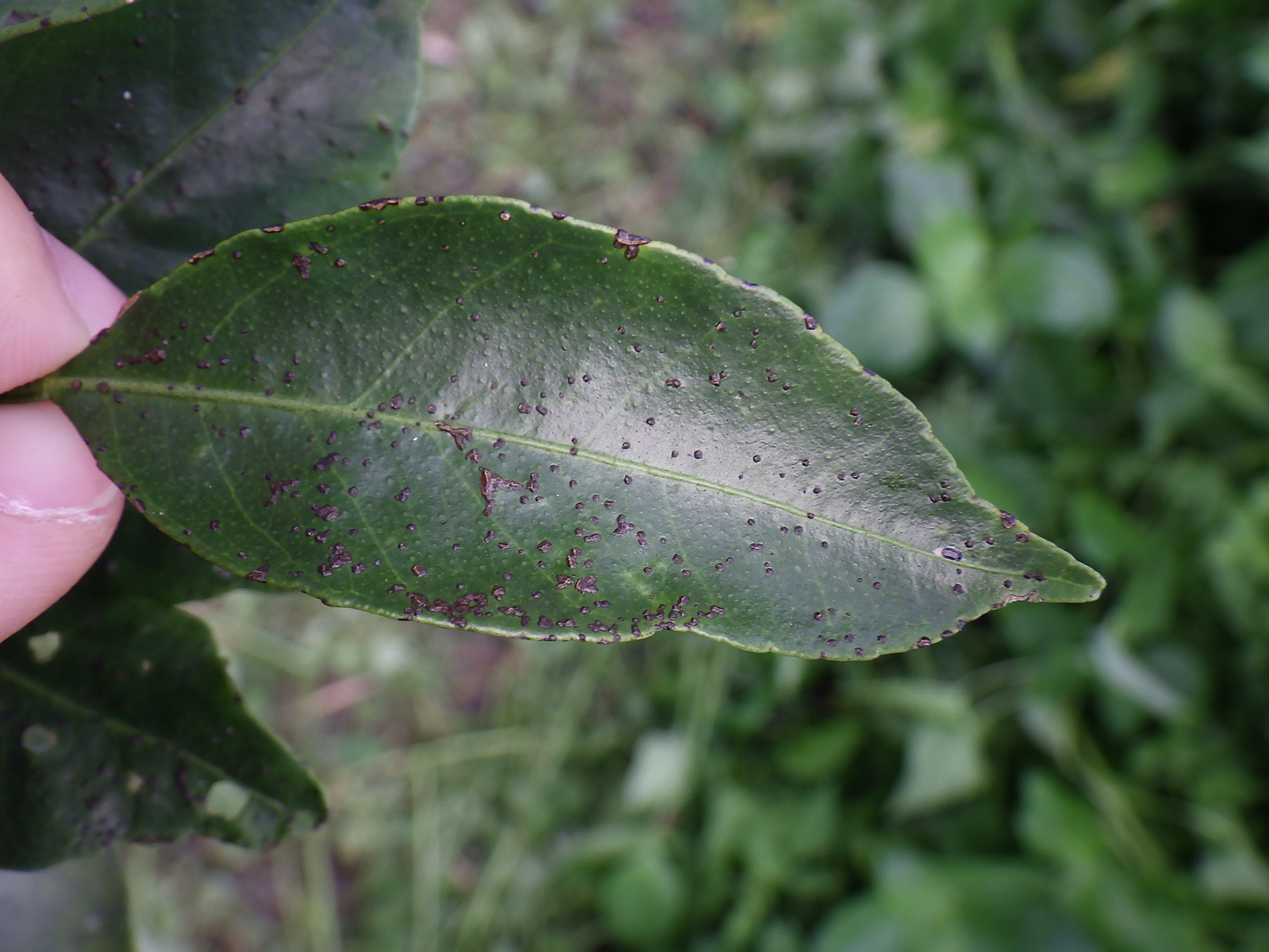Black_Spot: (27, 195, 1102, 660)
